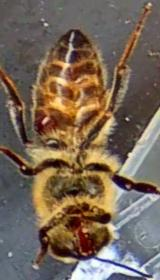varroa_mite: (27, 104, 64, 142)
